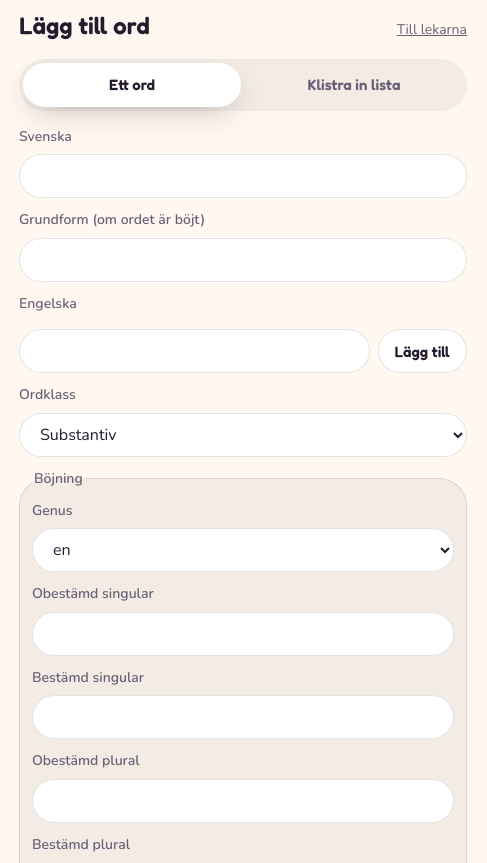
Scenario: Add › hides the chip on request without throwing the values away
Select "Verb" in the dropdown labelled "Ordklass" at (243, 435), box [19, 413, 467, 457]
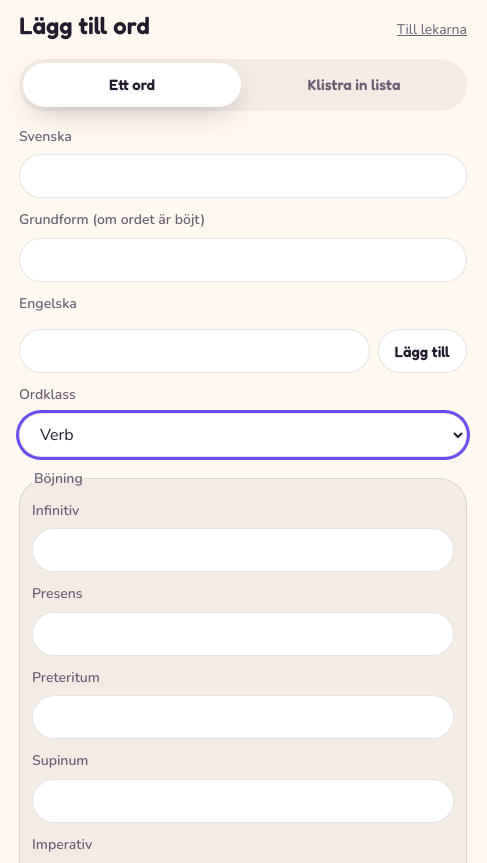
Type "tala" into the field labelled "Svenska" at (243, 176), box [19, 154, 467, 198]
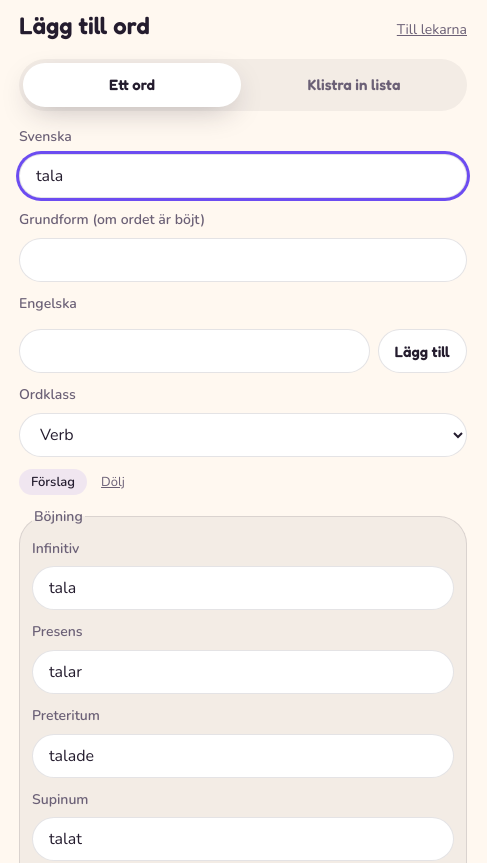
Click the button "Dölj" at (113, 482), box [95, 472, 131, 492]
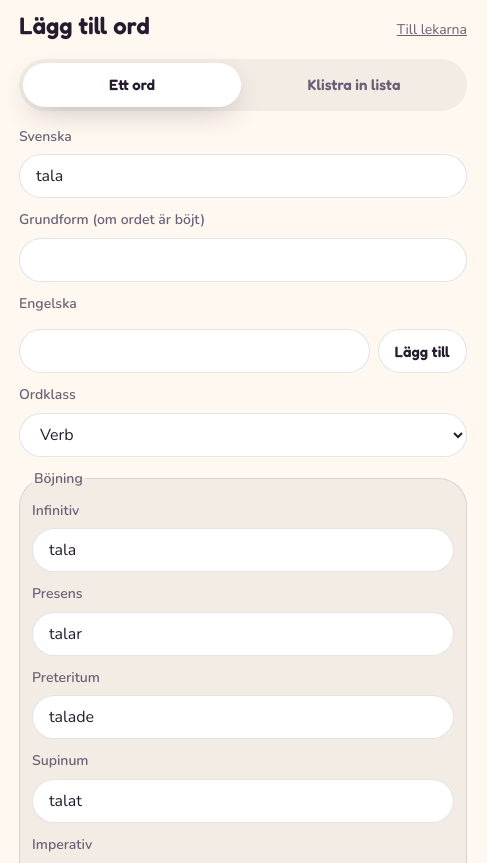
Check: the field labelled "Presens" holds "talar", box [32, 612, 454, 656]
Check: the text "Förslag" is gone
